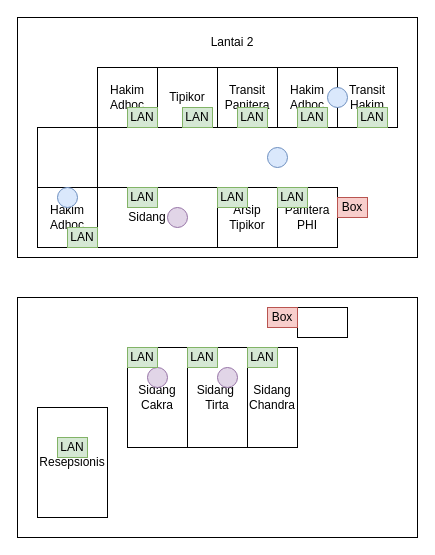
Image size: 435x555. Some labels were removed from this diagram. Here are the shapes that lost their labels. From the top down, the centre of each, then its label:
point 67,157: arsip
point 322,322: Ruang
